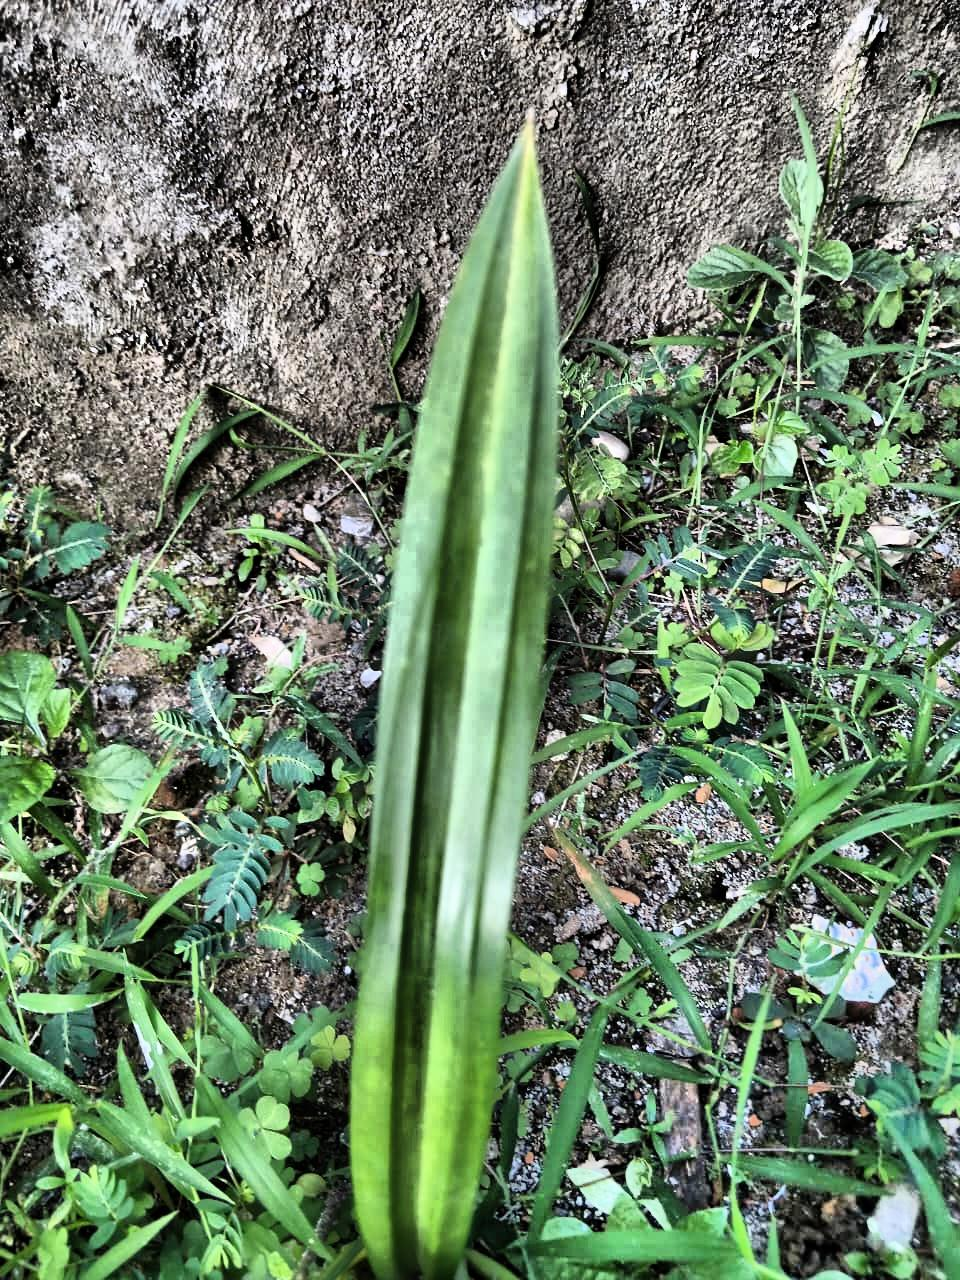daun pandan: (350, 121, 559, 1279)
